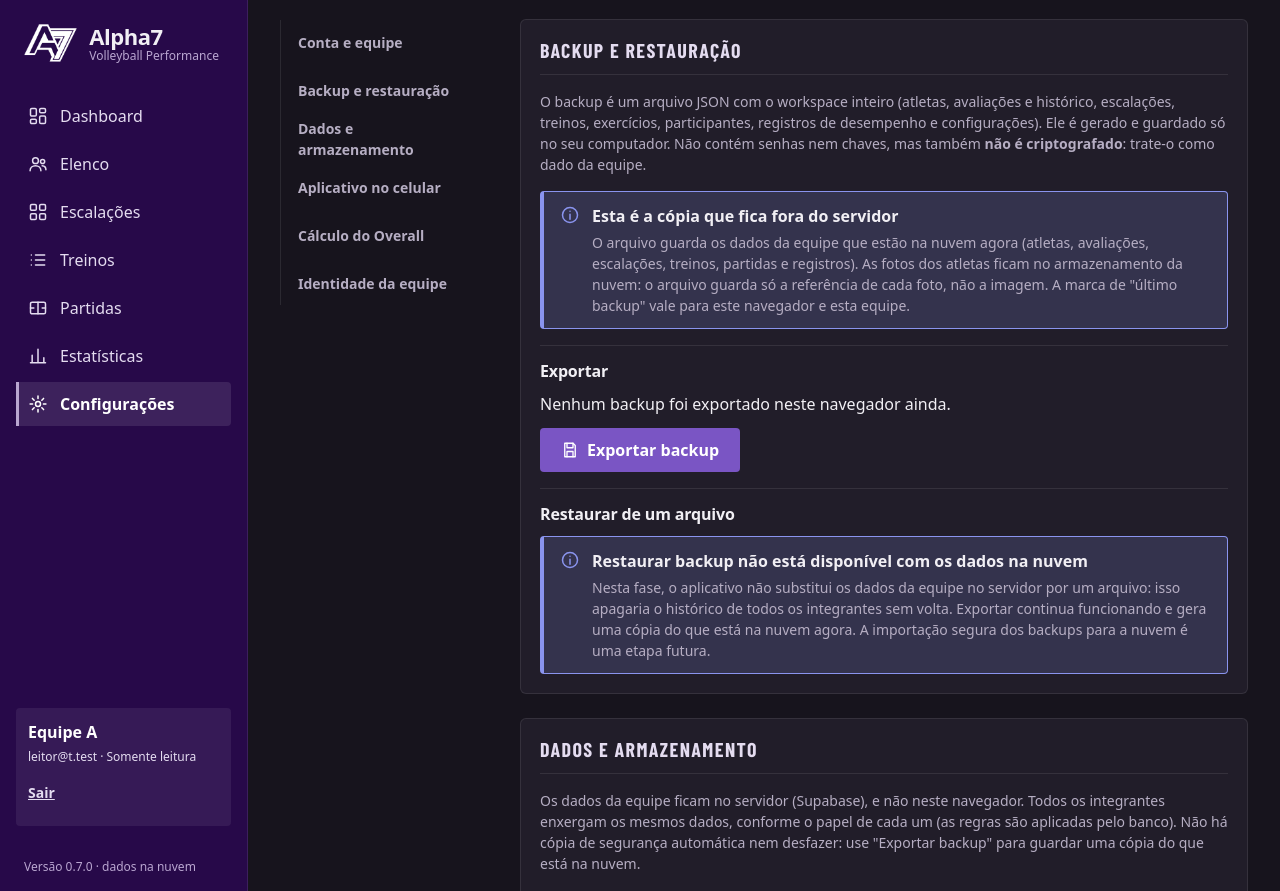
Test case: Interface com dados na nuvem › exportar backup funciona com os dados da nuvem (somente leitura sobre o que está no servidor)
(page scrolled)
Click the button "Exportar backup". click: (640, 450)
box: top-left (540, 428), bottom-right (740, 472)
(page scrolled)
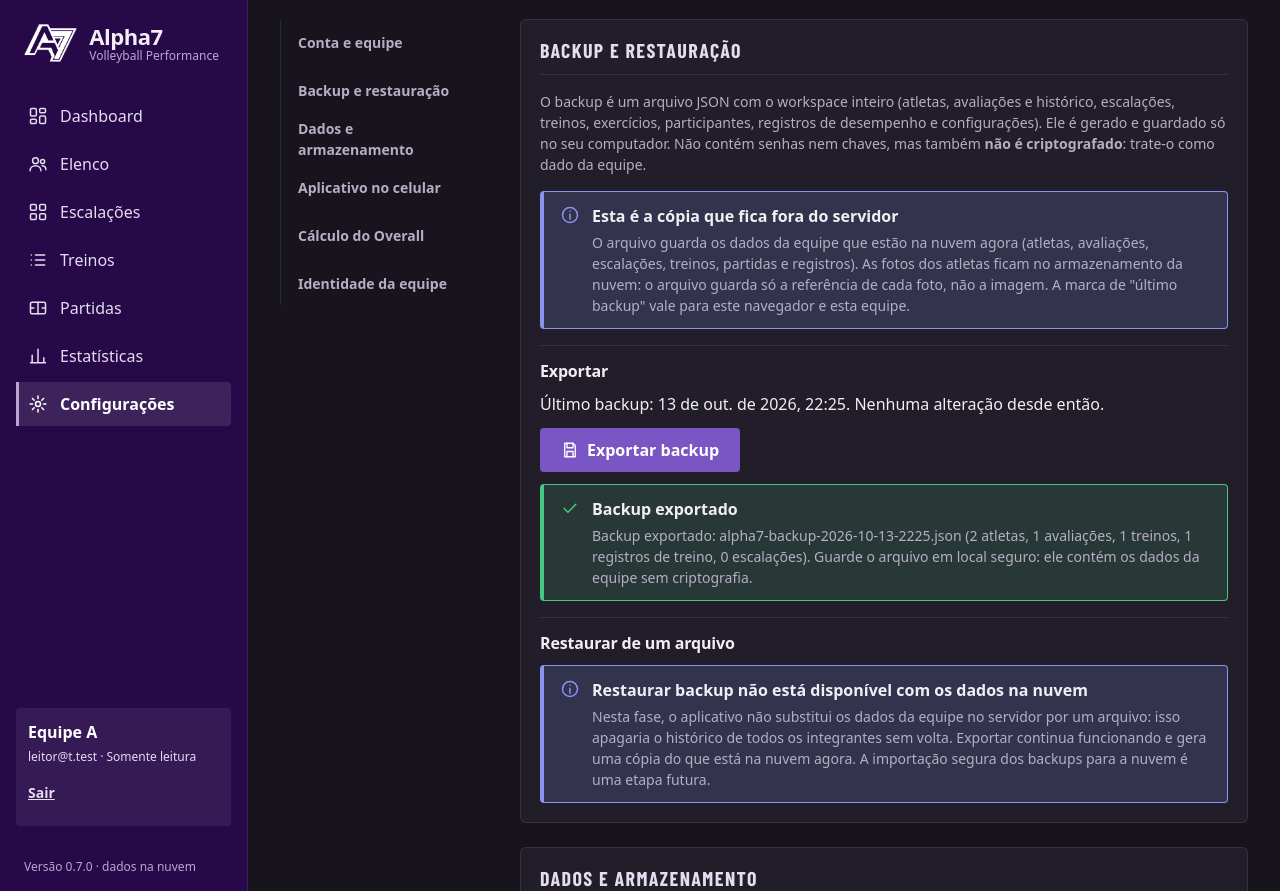
Expected: the text "Backup exportado: alpha7-backup-" is shown, top-left (592, 526), bottom-right (1200, 587)
